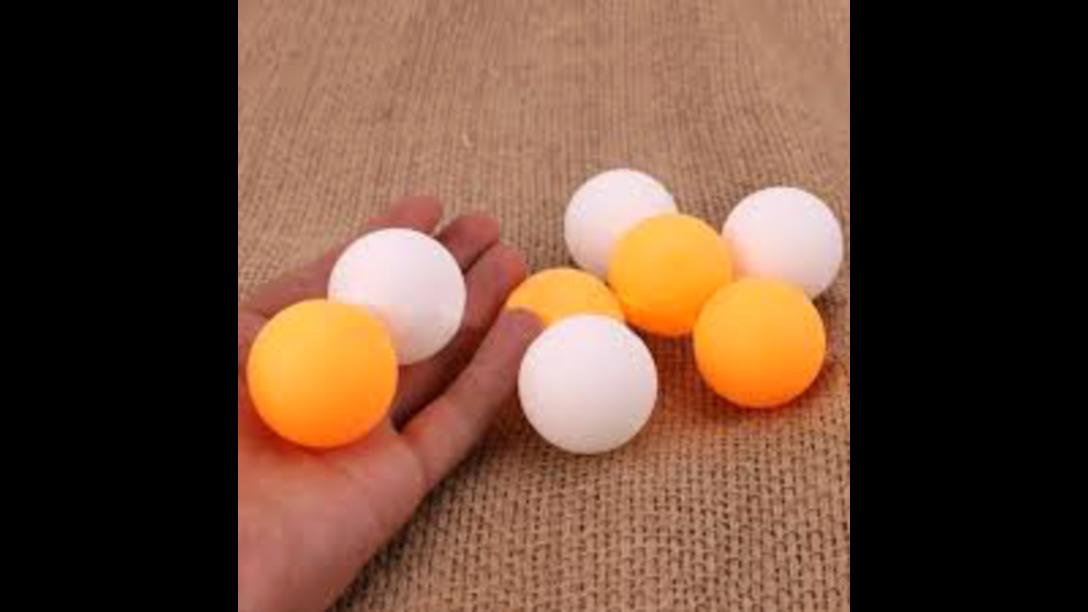Table-Tennis-Ball: (250, 300, 396, 444), (516, 314, 658, 452), (328, 229, 466, 361), (691, 279, 825, 409), (611, 215, 731, 333), (726, 186, 842, 296), (566, 168, 676, 272), (510, 267, 624, 331)
